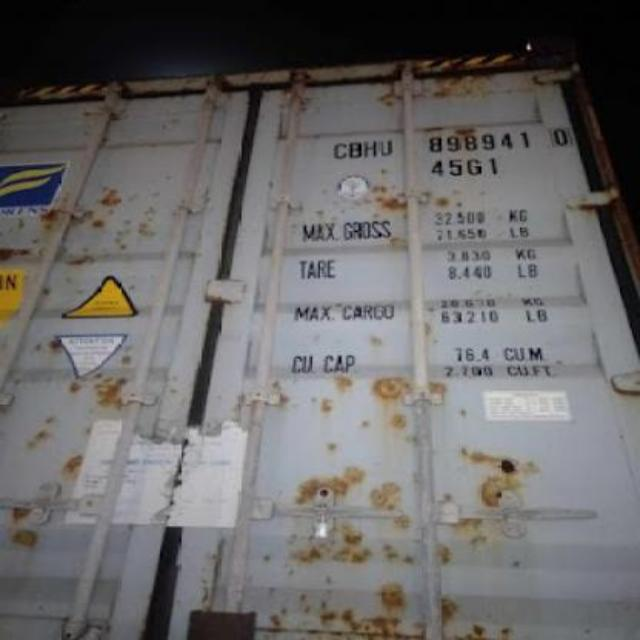0: (554, 129, 568, 145)
1: (520, 132, 532, 148)
4: (500, 132, 516, 150)
8: (430, 135, 442, 153), (466, 136, 478, 148)
9: (446, 135, 462, 153), (482, 133, 498, 151)
B: (348, 141, 364, 159)
C: (332, 144, 348, 160)
H: (362, 142, 378, 154)
U: (378, 140, 394, 156)
